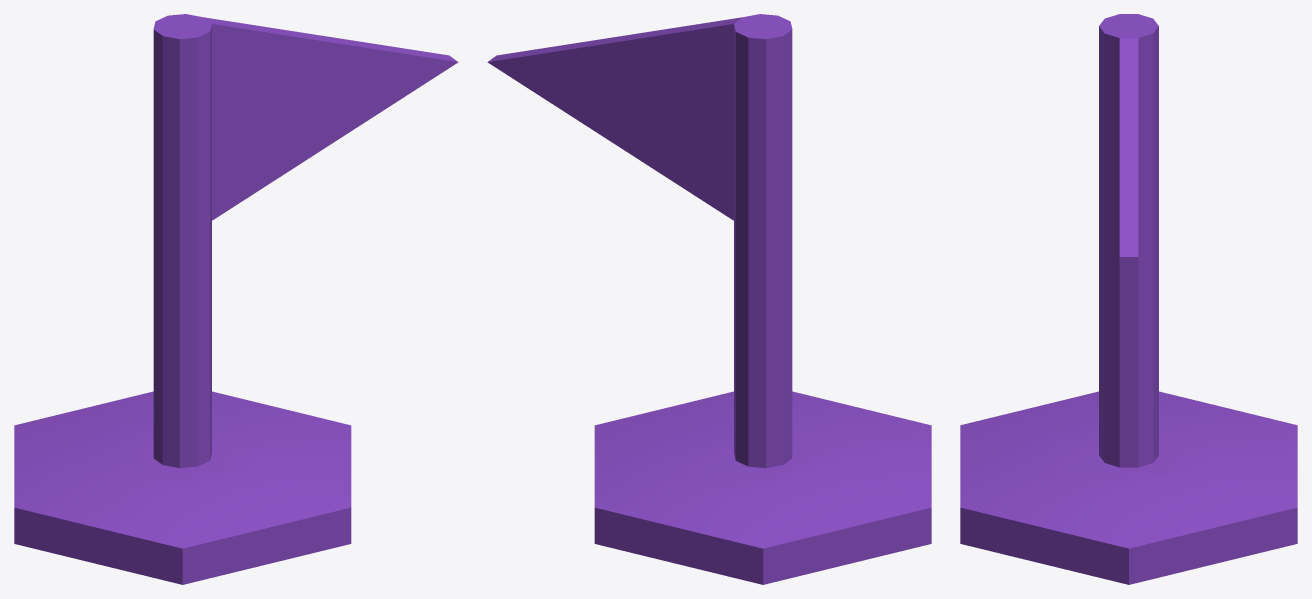
File: Boardgame_Flag_Token_Purple_01.fbx
3 views of the same model, side by side, from view 1: azimuth 30°, elevation 25°; view 2: azimuth 150°, elevation 25°; view 3: azimuth 270°, elevation 25° (orthographic).
Parts seen in each view (by area): view 1: Model; view 2: Model; view 3: Model.
Boxes of the visible parts, left/top/right/bottom form: Model: left=14, top=14, right=458, bottom=584; Model: left=487, top=14, right=931, bottom=584; Model: left=960, top=14, right=1297, bottom=584.
Size of the model in its own units: 244 by 253 by 162.
